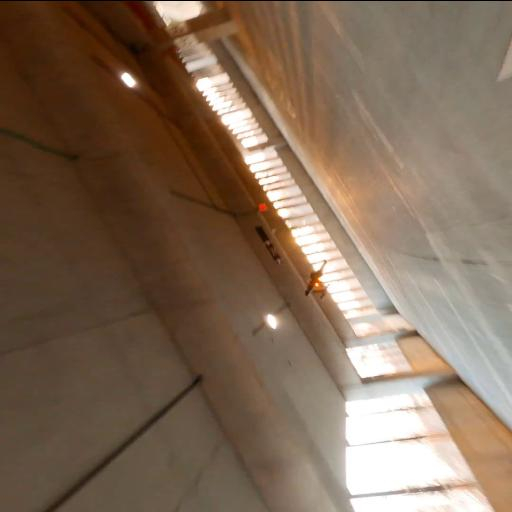uav: (300, 259, 332, 301)
